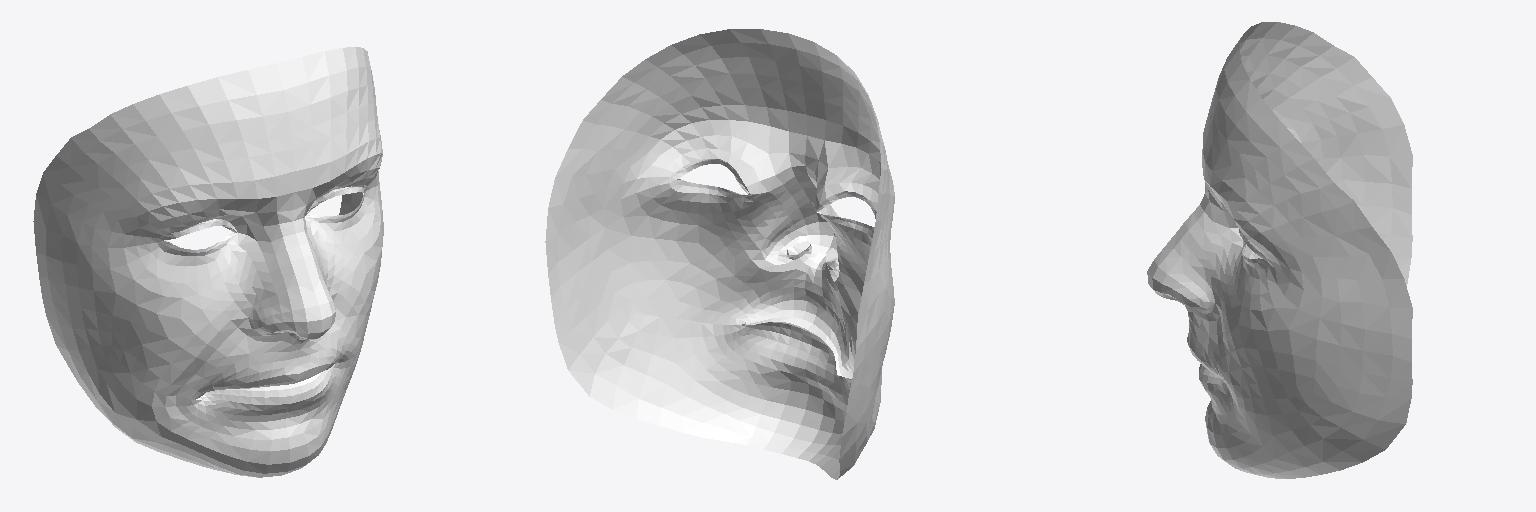
The model's file is mouthStretch_R.obj.
The picture shows the model from 3 angles: view 1: azimuth 30°, elevation 25°; view 2: azimuth 150°, elevation 25°; view 3: azimuth 270°, elevation 25°; orthographic projection.
Parts seen in each view (by area): view 1: default; view 2: default; view 3: default.
Boxes of the visible parts, x1=… form: default: x1=33, y1=47, x2=383, y2=477; default: x1=545, y1=29, x2=894, y2=479; default: x1=1147, y1=22, x2=1412, y2=478.
Bounding box in the file's own units: 0.1447 × 0.182 × 0.1055.